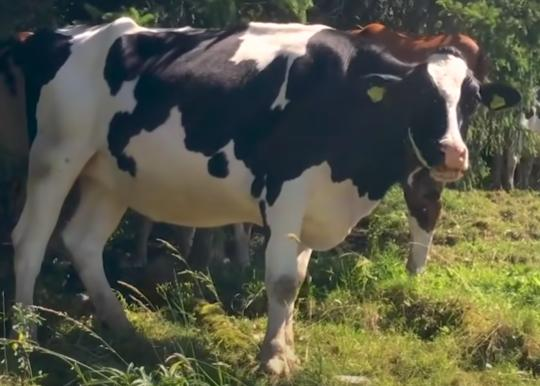cow: (10, 15, 521, 380), (336, 20, 489, 271), (492, 86, 540, 189)
